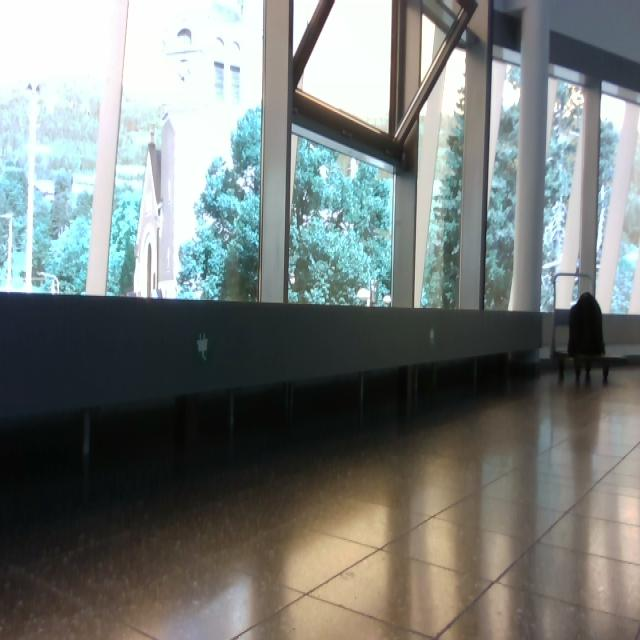light bulb: (502, 78, 520, 112), (348, 157, 359, 180), (318, 165, 328, 180), (383, 294, 391, 305)
person: (568, 292, 609, 385)
pillar: (85, 1, 130, 296), (508, 2, 550, 312)
tiled floor: (2, 364, 639, 638)
window: (1, 1, 640, 317)
